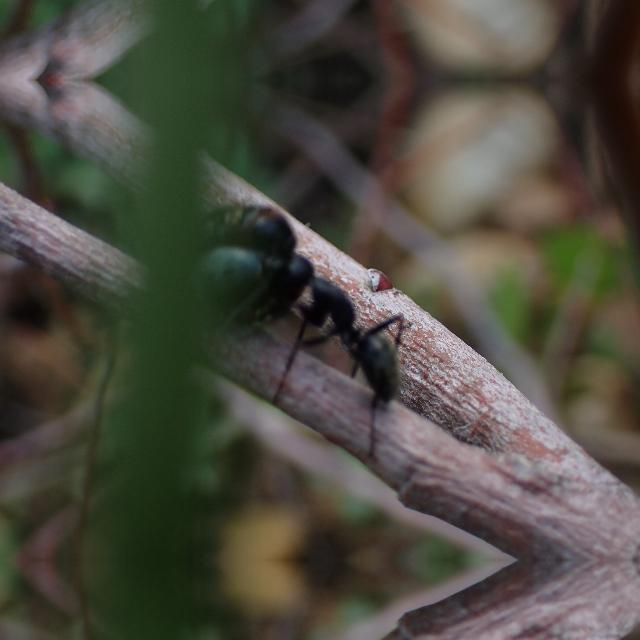Camponotus: (269, 248, 423, 424)
